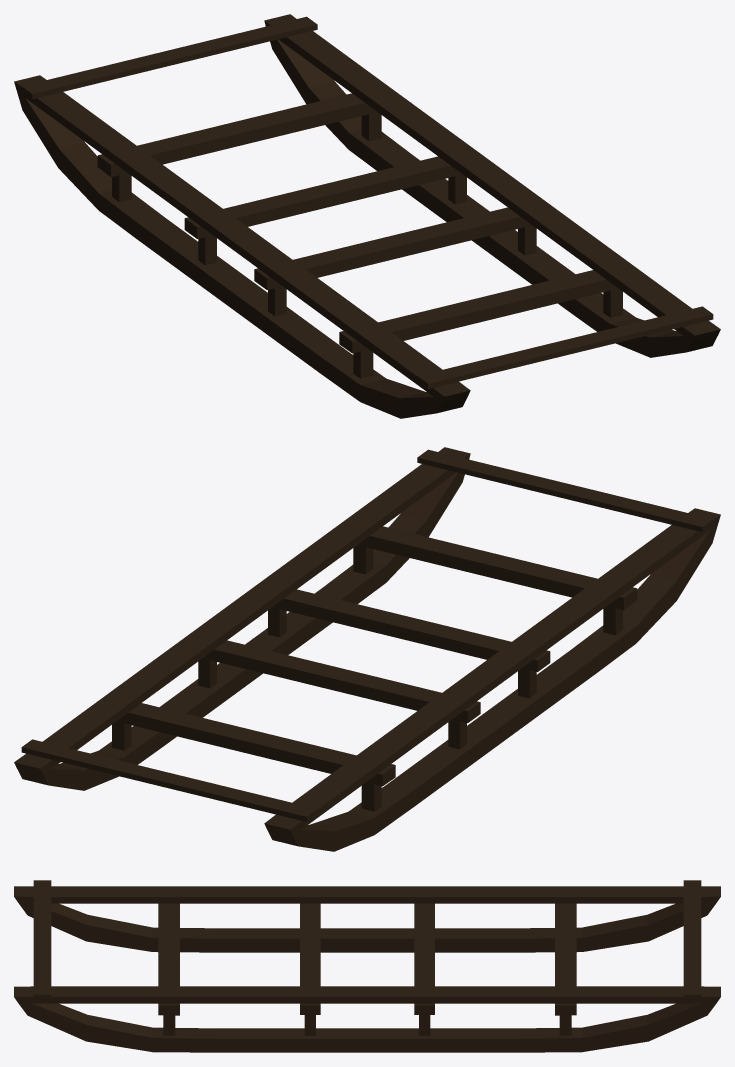
File: transportation_sleigh_Back.fbx
3 renders of one model, top to bottom at view 1: azimuth 30°, elevation 25°; view 2: azimuth 150°, elevation 25°; view 3: azimuth 270°, elevation 25°, orthographic. The views are drawn at different scales.
Parts seen in each view (by area): view 1: Sleigh Back; view 2: Sleigh Back; view 3: Sleigh Back.
Boxes of the visible parts, bbox=[...] form: Sleigh Back: bbox=[14, 14, 720, 418]; Sleigh Back: bbox=[14, 447, 720, 851]; Sleigh Back: bbox=[14, 880, 720, 1052].
Bounding box in the file's own units: 420 × 103 × 1099.
